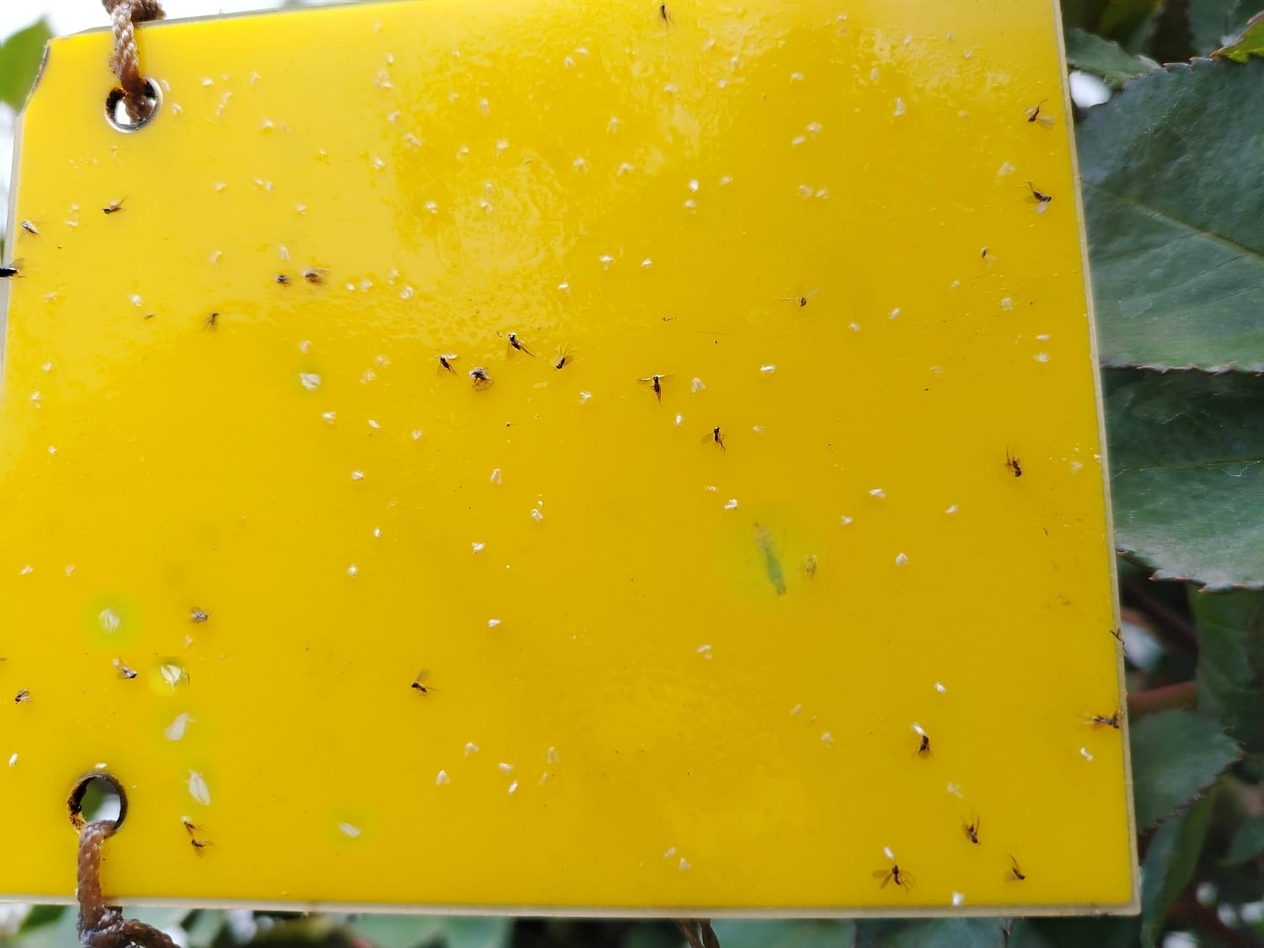WF: (724, 518, 808, 597), (149, 703, 212, 756), (88, 598, 136, 643), (179, 760, 213, 812), (329, 808, 372, 844), (154, 662, 183, 689), (292, 365, 321, 392), (616, 162, 637, 184), (1076, 746, 1098, 766), (946, 783, 968, 802), (604, 115, 624, 135), (997, 162, 1020, 179), (546, 745, 562, 769), (404, 134, 426, 151), (434, 769, 454, 787), (699, 36, 720, 53), (319, 410, 340, 427), (463, 742, 483, 759), (950, 890, 967, 910), (490, 467, 506, 488), (663, 84, 685, 99), (484, 616, 506, 631), (476, 97, 493, 116), (805, 122, 825, 138), (795, 185, 815, 201), (758, 362, 779, 377), (539, 771, 554, 792), (881, 846, 897, 865), (910, 722, 929, 738), (868, 487, 888, 502), (661, 844, 678, 861), (472, 542, 489, 559), (697, 645, 715, 661), (787, 72, 809, 85), (497, 761, 516, 776), (723, 497, 742, 512), (169, 101, 185, 118), (1069, 459, 1085, 476), (690, 377, 706, 394), (360, 280, 377, 296), (299, 340, 316, 356), (350, 469, 367, 485), (374, 156, 389, 174), (506, 779, 521, 797), (678, 856, 693, 874), (933, 682, 951, 697), (279, 244, 292, 264), (533, 507, 546, 527), (1000, 297, 1016, 313), (575, 158, 591, 174), (130, 294, 147, 309), (1035, 352, 1052, 367), (347, 564, 362, 581), (1034, 333, 1055, 345), (814, 188, 832, 202), (597, 254, 615, 268), (403, 286, 417, 304), (210, 250, 225, 266), (895, 553, 912, 567), (790, 135, 807, 149), (688, 180, 703, 195), (577, 47, 592, 62), (479, 201, 494, 216), (495, 141, 511, 155), (8, 752, 21, 769), (683, 199, 700, 212), (366, 419, 383, 432), (869, 66, 881, 84), (389, 111, 403, 126), (888, 308, 903, 322), (728, 56, 742, 71), (30, 391, 46, 404), (838, 515, 854, 528), (945, 504, 961, 517), (947, 278, 963, 291), (640, 258, 656, 271), (672, 414, 685, 430), (372, 22, 388, 35), (752, 424, 769, 436), (375, 356, 389, 370), (161, 79, 174, 94), (370, 527, 385, 540), (65, 565, 80, 578), (67, 221, 83, 233), (720, 175, 736, 187), (904, 35, 915, 52), (216, 181, 229, 195), (961, 49, 975, 62), (344, 281, 358, 294), (388, 268, 402, 281), (201, 78, 216, 90), (820, 732, 835, 744), (849, 323, 864, 335), (555, 282, 570, 294), (581, 391, 593, 406), (565, 56, 577, 71), (20, 566, 36, 577), (458, 147, 474, 158), (263, 119, 275, 133), (48, 444, 60, 458), (411, 430, 425, 442), (41, 363, 56, 374), (426, 202, 438, 215), (895, 97, 907, 110), (224, 90, 235, 104), (297, 203, 308, 217), (217, 104, 226, 121), (485, 184, 497, 196), (254, 177, 265, 190), (383, 81, 396, 92), (895, 109, 908, 120), (945, 33, 956, 46), (96, 762, 111, 771), (252, 73, 263, 85), (68, 204, 80, 215), (1093, 454, 1105, 465), (717, 80, 729, 91), (388, 54, 397, 68), (836, 15, 850, 24), (267, 183, 276, 195), (182, 815, 194, 824), (537, 498, 546, 510), (376, 80, 385, 91)
